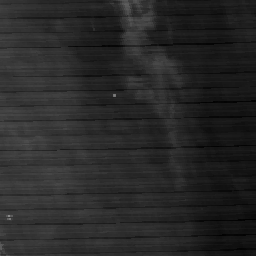Target: (111, 92, 118, 99)
